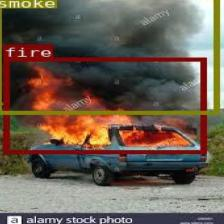fire: (2, 57, 205, 153)
smoke: (0, 0, 217, 113)
